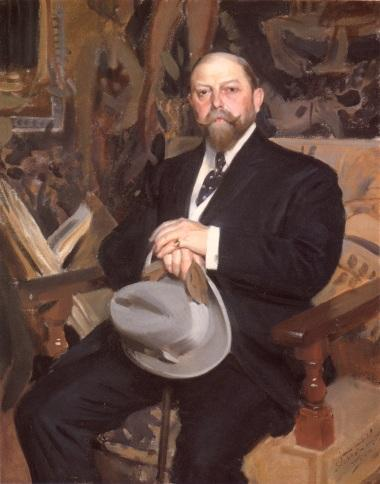person: (32, 57, 357, 480)
